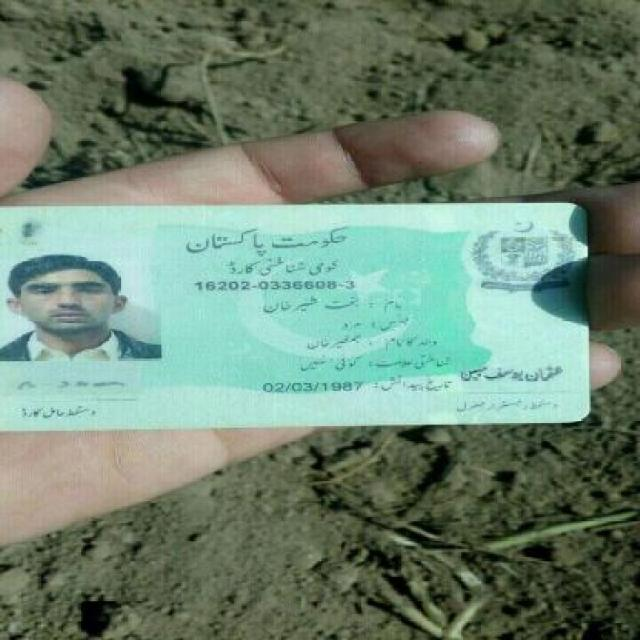Front: (3, 200, 595, 437)
